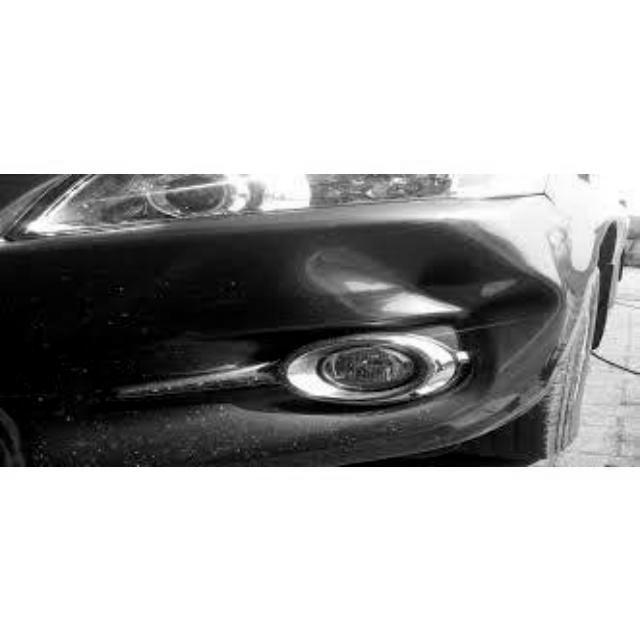front-bumper-dent: (277, 216, 568, 364)
